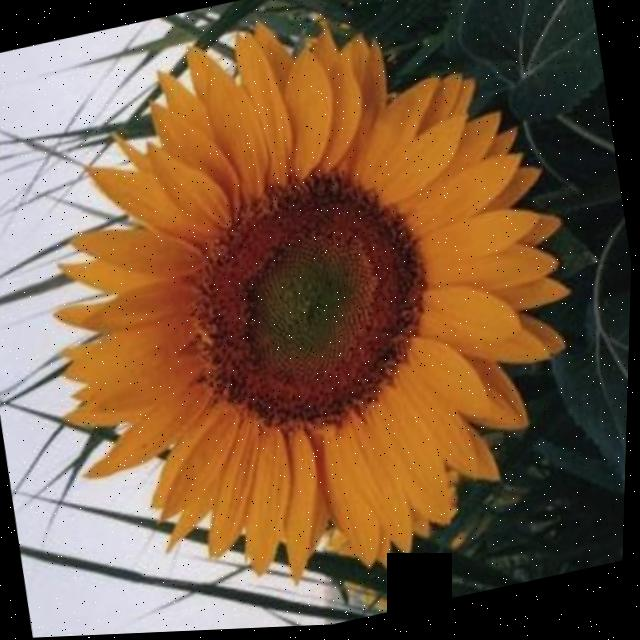sunflower: (0, 0, 640, 640)
